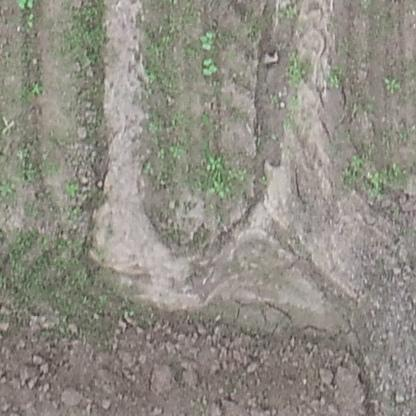vc: (200, 26, 217, 53), (200, 58, 218, 76), (15, 1, 37, 10)
